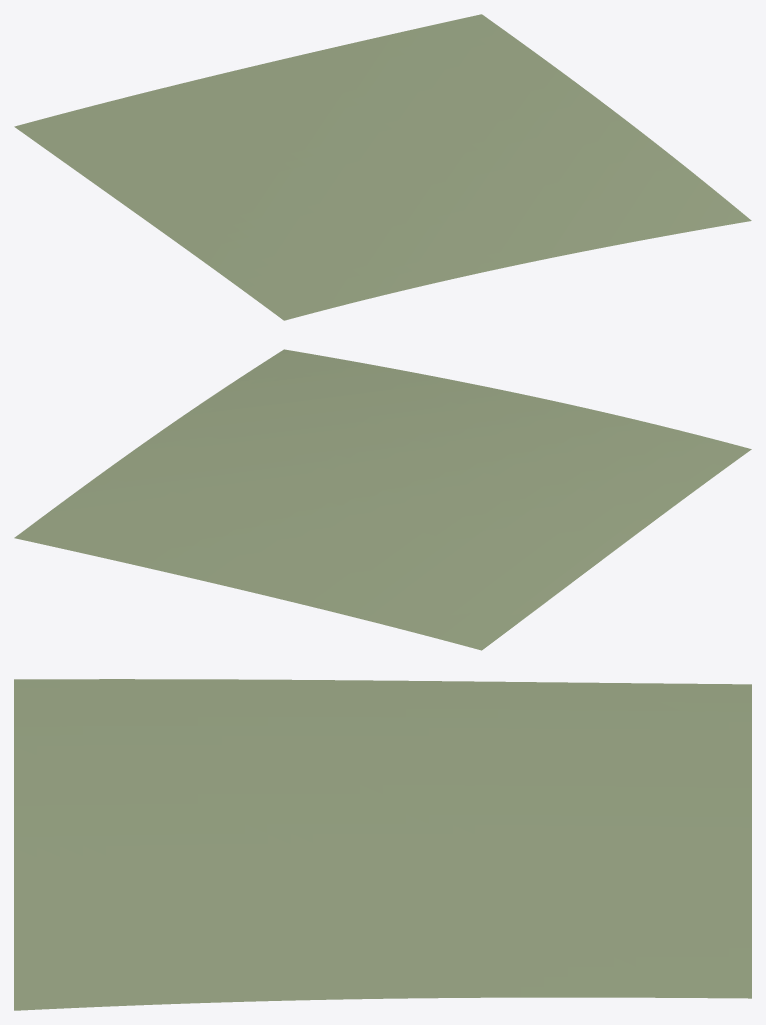
The model's file is expanse-22-14.glb.
3 renders of one model, top to bottom at view 1: azimuth 30°, elevation 25°; view 2: azimuth 150°, elevation 25°; view 3: azimuth 270°, elevation 25°, orthographic. The views are drawn at different scales.
Visible parts, largest first — view 1: expanse-22-14; view 2: expanse-22-14; view 3: expanse-22-14.
Part boxes in pixels (<box>): expanse-22-14: <box>14,14,751,320</box>; expanse-22-14: <box>14,349,751,650</box>; expanse-22-14: <box>14,679,751,1010</box>.
Size of the model in its own units: 256 by 8.52 by 256.
